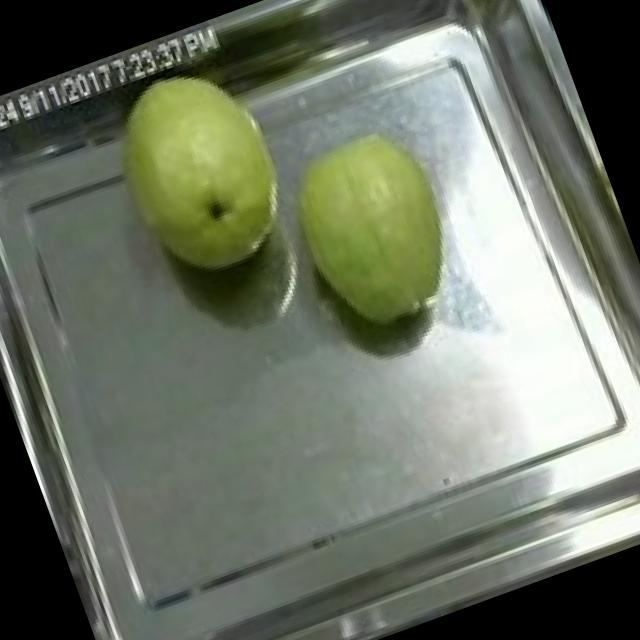Fruit: (79, 35, 326, 305), (253, 98, 490, 358)
